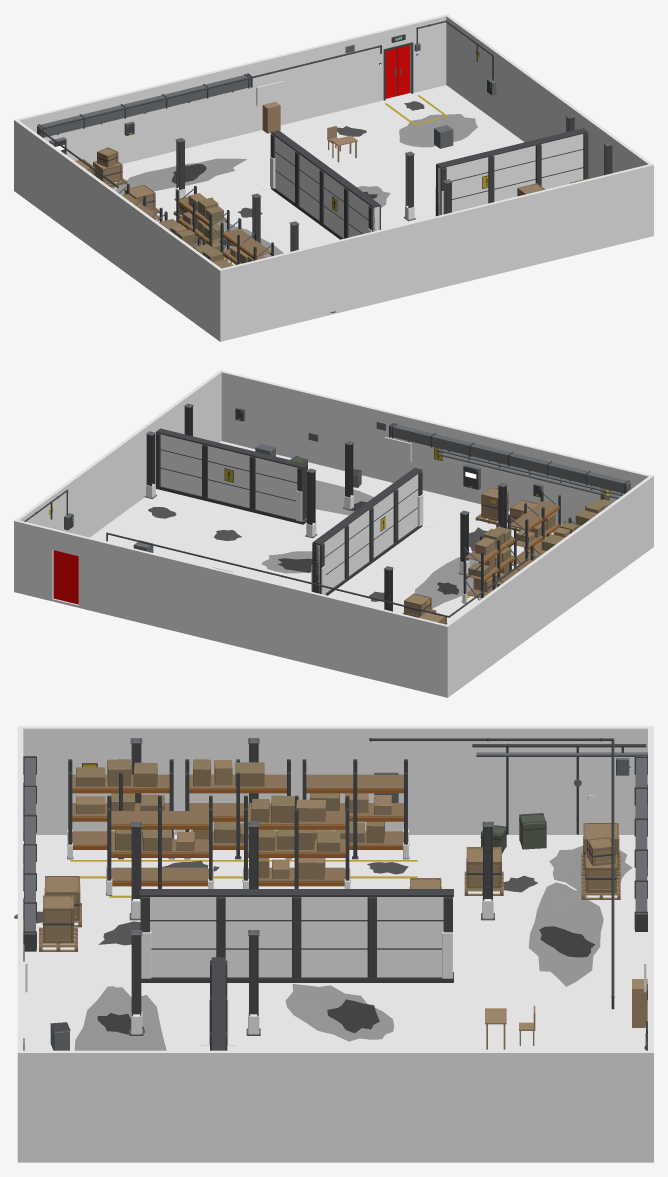
File: SS_Warehouse.glb
3 renders of one model, top to bottom at view 1: azimuth 30°, elevation 25°; view 2: azimuth 150°, elevation 25°; view 3: azimuth 270°, elevation 25°, orthographic. The views are drawn at different scales.
Parts seen in each view (by area): view 1: ENV_Wall_South-col, ENV_Floor-col, ENV_Wall_North-col, ENV_Wall_West-col, ENV_Wall_East-col, ENV_InteriorWall_02_Secondary-col, ENV_InteriorWall_01_Main-col, ENV_FloorDecals_Stains, DETAIL_Duct_North_01, PROP_Rack_04-col, PROP_Rack_05-col, DOOR_Exit-col (+7 smaller); view 2: ENV_Wall_North-col, ENV_Floor-col, ENV_Wall_South-col, ENV_Wall_West-col, ENV_Wall_East-col, ENV_InteriorWall_02_Secondary-col, ENV_InteriorWall_01_Main-col, ENV_FloorDecals_Stains, DETAIL_Duct_South_01, PROP_Rack_04-col, PROP_Rack_05-col, DOOR_Exit-col (+11 smaller); view 3: ENV_Floor-col, ENV_Wall_East-col, ENV_Wall_West-col, ENV_InteriorWall_01_Main-col, ENV_FloorDecals_Stains, PROP_Rack_04-col, PROP_Rack_05-col, PROP_Rack_03-col, PROP_Rack_01-col, PROP_Rack_02-col, ENV_Wall_South-col, DETAIL_Duct_South_01 (+20 smaller).
Part boxes in pixels (box(x1,y1,x2,y2)): ENV_Wall_South-col: box(218, 163, 653, 339); ENV_Floor-col: box(14, 85, 653, 341); ENV_Wall_North-col: box(14, 14, 449, 189); ENV_Wall_West-col: box(16, 120, 220, 337); ENV_Wall_East-col: box(446, 15, 651, 178); ENV_InteriorWall_02_Secondary-col: box(435, 128, 588, 216); ENV_InteriorWall_01_Main-col: box(270, 130, 381, 239); ENV_FloorDecals_Stains: box(111, 101, 477, 312); DETAIL_Duct_North_01: box(37, 73, 252, 137); PROP_Rack_04-col: box(176, 186, 230, 263); PROP_Rack_05-col: box(220, 218, 273, 264); DOOR_Exit-col: box(385, 45, 409, 98); ENV_Wall_North-col: box(14, 519, 449, 695); ENV_Floor-col: box(14, 441, 653, 697); ENV_Wall_South-col: box(218, 370, 653, 545); ENV_Wall_West-col: box(447, 476, 651, 693); ENV_Wall_East-col: box(16, 371, 221, 537); ENV_InteriorWall_02_Secondary-col: box(155, 428, 307, 524); ENV_InteriorWall_01_Main-col: box(311, 467, 423, 595); ENV_FloorDecals_Stains: box(148, 480, 487, 608); DETAIL_Duct_South_01: box(389, 423, 630, 493); PROP_Rack_04-col: box(462, 523, 516, 603); PROP_Rack_05-col: box(507, 491, 560, 564); DOOR_Exit-col: box(53, 550, 78, 604); ENV_Floor-col: box(17, 835, 653, 1162); ENV_Wall_East-col: box(23, 1050, 647, 1159); ENV_Wall_West-col: box(23, 726, 647, 834); ENV_InteriorWall_01_Main-col: box(139, 889, 453, 982); ENV_FloorDecals_Stains: box(14, 846, 632, 1050); PROP_Rack_04-col: box(242, 795, 350, 888); PROP_Rack_05-col: box(106, 795, 213, 895); PROP_Rack_03-col: box(67, 759, 174, 859); PROP_Rack_01-col: box(302, 759, 409, 859); PROP_Rack_02-col: box(184, 759, 291, 859); ENV_Wall_South-col: box(17, 726, 23, 1159); DETAIL_Duct_South_01: box(23, 756, 36, 951).
Size of the model in its own units: 19.8 by 3.1 by 16.39.
